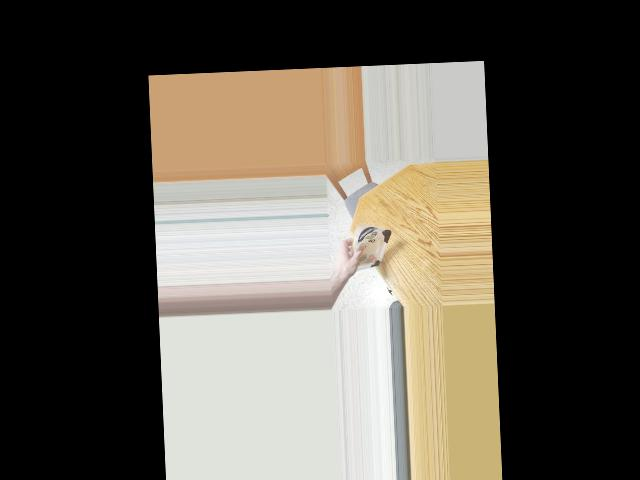cheese: (352, 225, 389, 275)
